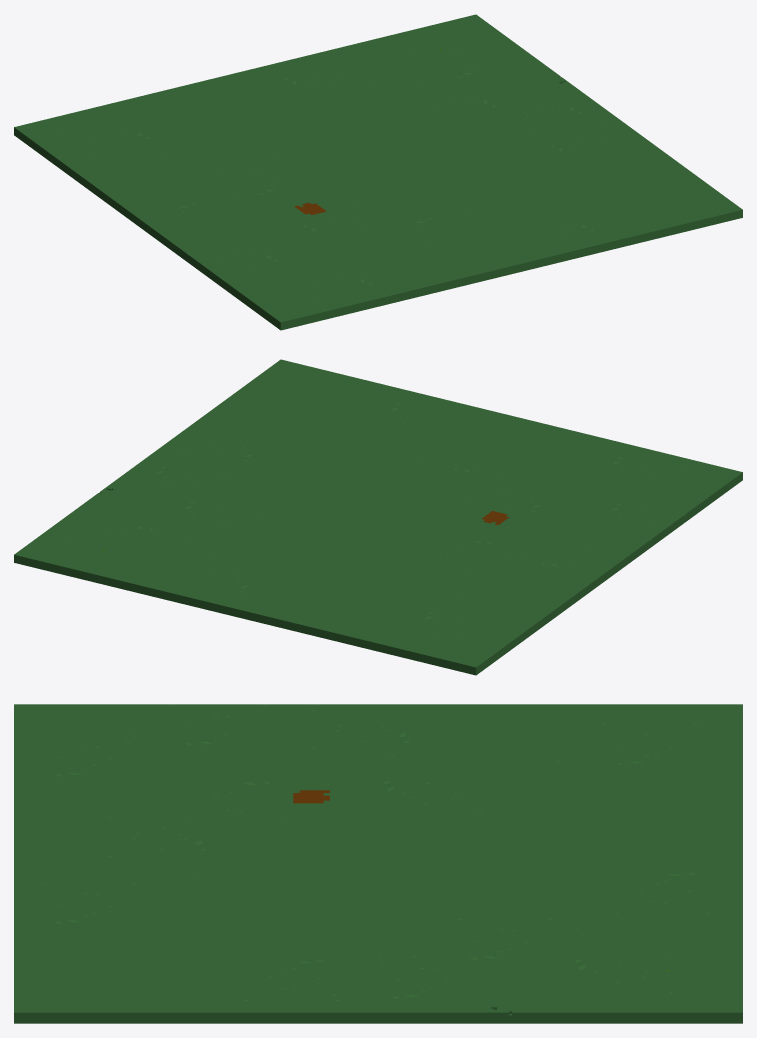
Rendered from bosque2.obj.
The picture shows the model from 3 angles, top to bottom: view 1: azimuth 30°, elevation 25°; view 2: azimuth 150°, elevation 25°; view 3: azimuth 270°, elevation 25°; orthographic projection. The views are drawn at different scales.
Size of the model in its own units: 24 by 0.4 by 24.
Materials: 1 (1 with a texture image).
